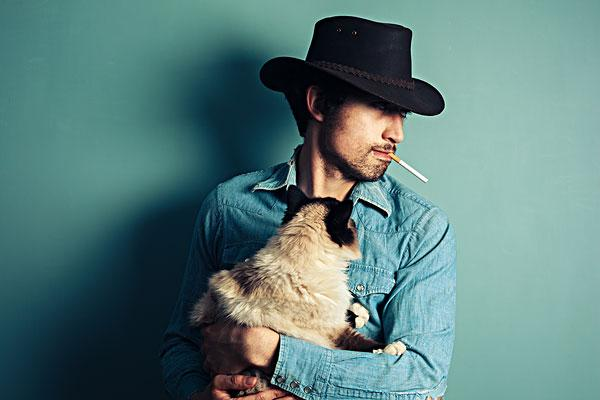smoke: (388, 152, 431, 184)
